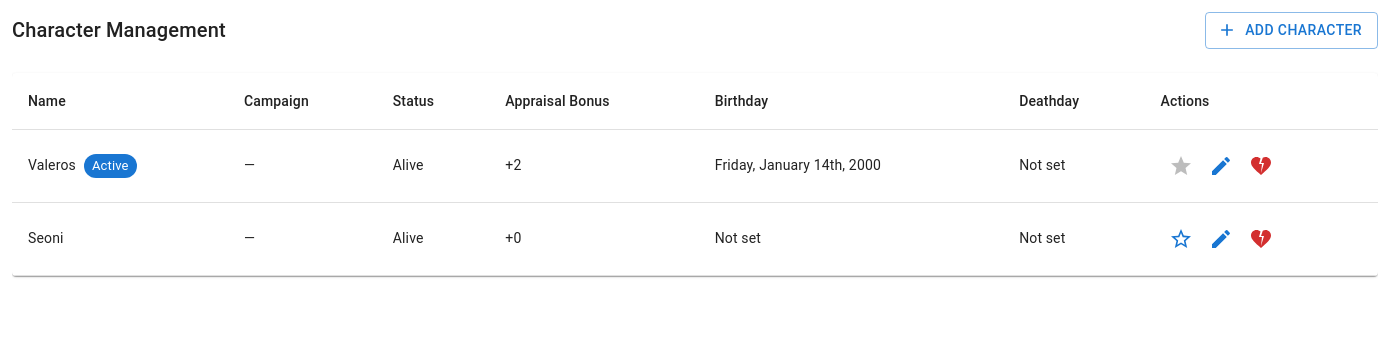
it: CharacterTab › reports a failed change and does not refresh the user
Expected: the text "Seoni" is shown, [28,230,64,246]
Click the button named "Set as Active Character" in the row of "Seoni": (1180, 238) [1160,218,1200,258]
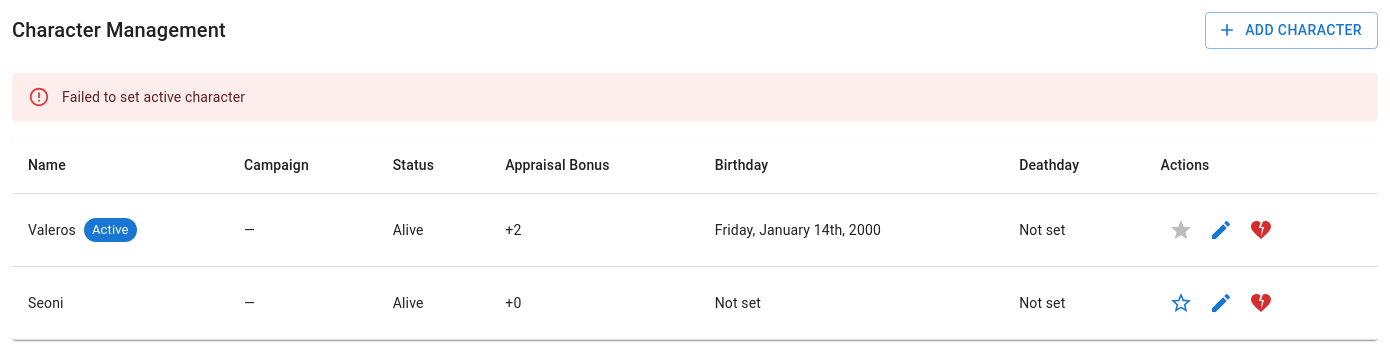
Now the text "Failed to set active character" is shown, box [62,88,245,104]
